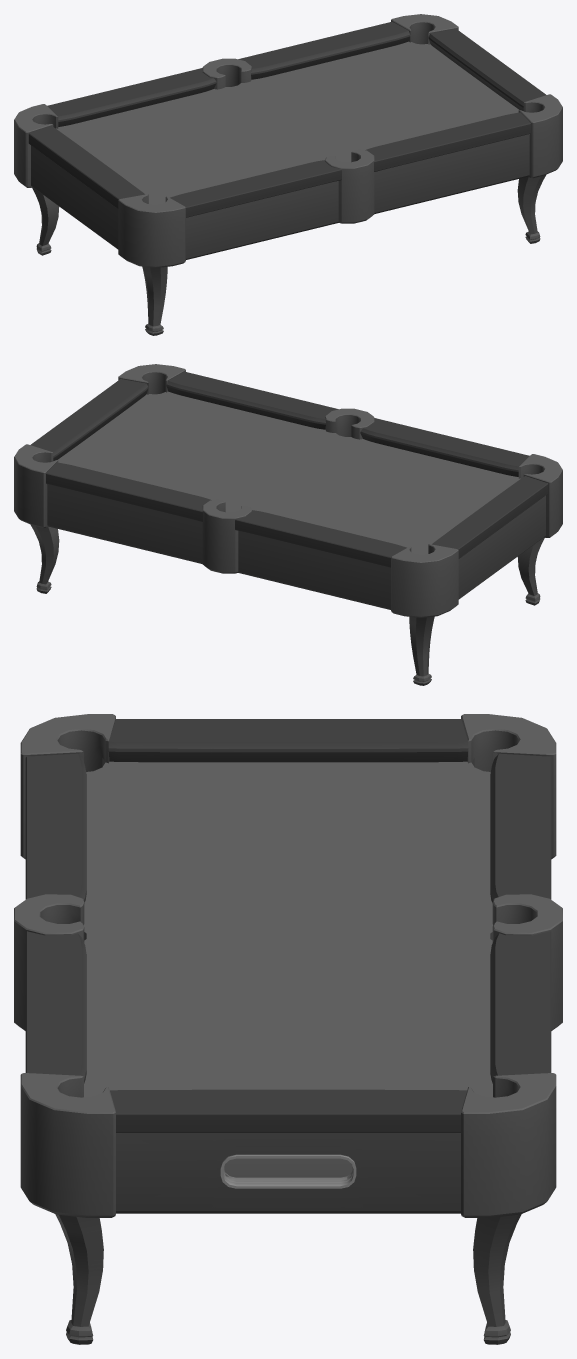
The model's file is poolTable.fbx.
3 renders of one model, top to bottom at view 1: azimuth 30°, elevation 25°; view 2: azimuth 150°, elevation 25°; view 3: azimuth 270°, elevation 25°, orthographic. The views are drawn at different scales.
Parts seen in each view (by area): view 1: poolTable; view 2: poolTable; view 3: poolTable.
Boxes of the visible parts, box(x1,y1,x2,y2) form: poolTable: box(14, 14, 562, 335); poolTable: box(14, 364, 562, 685); poolTable: box(14, 714, 562, 1344).
Size of the model in its own units: 3.9 by 1.15 by 2.26.
